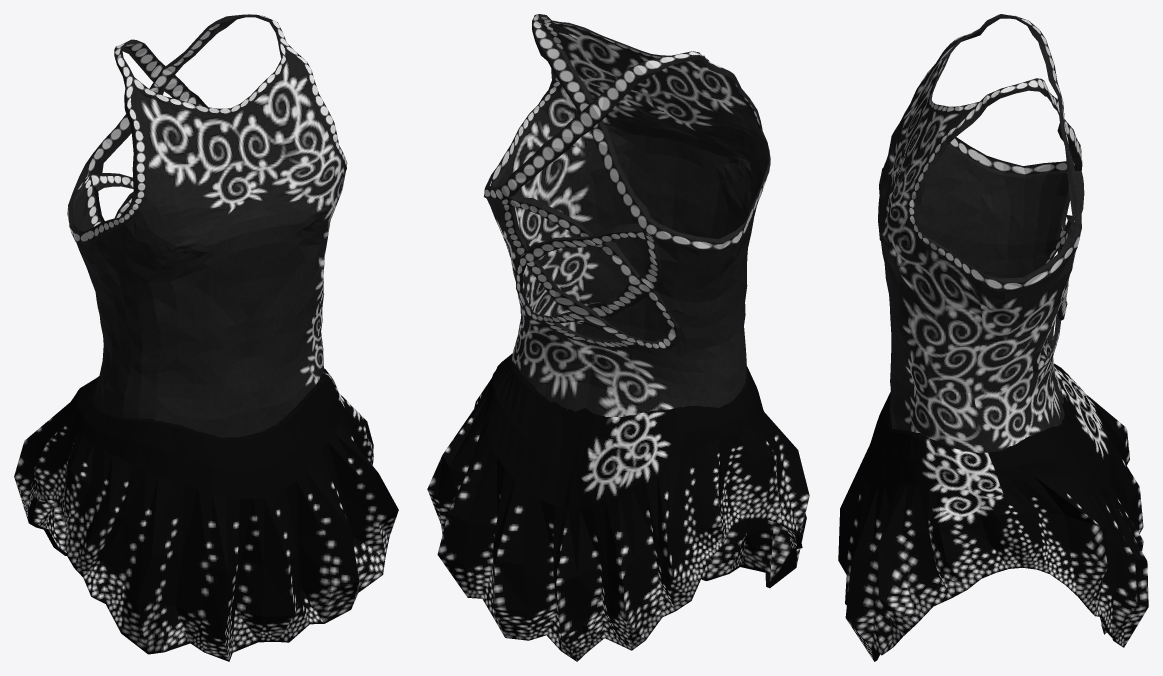
File: mhw_punkduck_figure_skating_dress.glb
3 views of the same model, side by side, from view 1: azimuth 30°, elevation 25°; view 2: azimuth 150°, elevation 25°; view 3: azimuth 270°, elevation 25° (orthographic). The views are drawn at different scales.
Visible parts, largest first — view 1: mhw_punkduck_figure_skating_dress; view 2: mhw_punkduck_figure_skating_dress; view 3: mhw_punkduck_figure_skating_dress.
Boxes of the visible parts, x1=… form: mhw_punkduck_figure_skating_dress: x1=14, y1=14, x2=398, y2=661; mhw_punkduck_figure_skating_dress: x1=427, y1=14, x2=809, y2=661; mhw_punkduck_figure_skating_dress: x1=838, y1=14, x2=1148, y2=661.
Bounding box in the file's own units: 0.4435 × 0.803 × 0.3839.
Materials: 1 (1 with a texture image).
